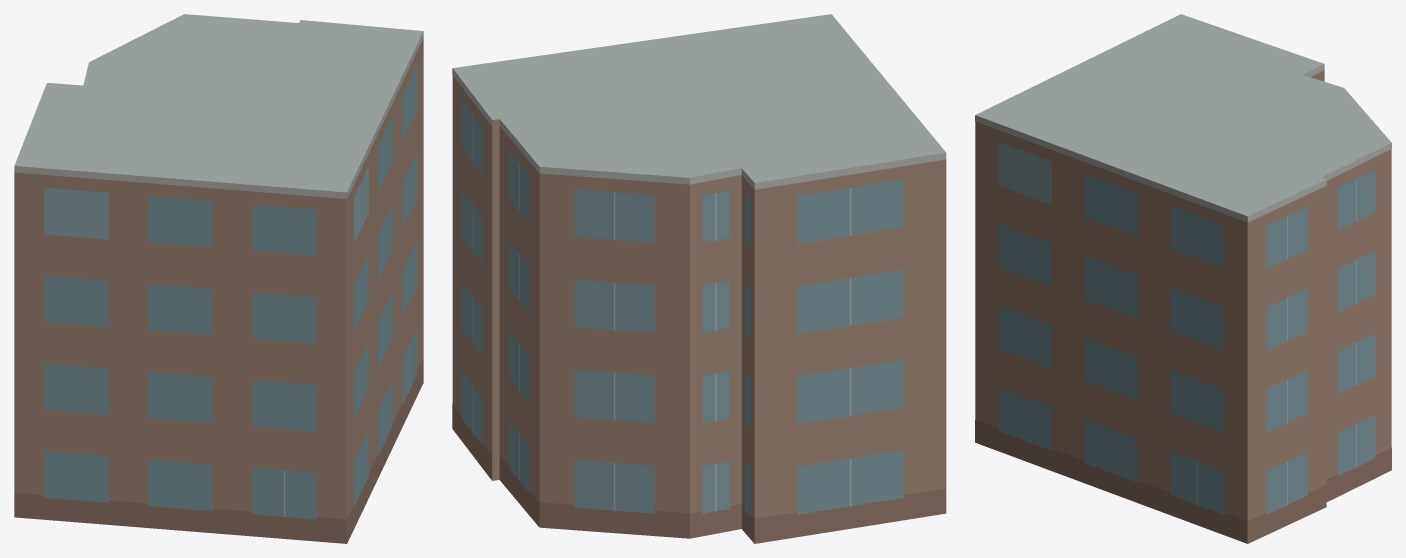
File: survey-upis-32744730.glb
The picture shows the model from 3 angles, left to right: view 1: azimuth 30°, elevation 25°; view 2: azimuth 150°, elevation 25°; view 3: azimuth 270°, elevation 25°; orthographic projection. The views are drawn at different scales.
Visible parts, largest first — view 1: survey-upis-32744730.tmp; view 2: survey-upis-32744730.tmp; view 3: survey-upis-32744730.tmp.
Boxes of the visible parts, left/top/right/bottom form: survey-upis-32744730.tmp: left=14, top=14, right=423, bottom=543; survey-upis-32744730.tmp: left=452, top=14, right=946, bottom=543; survey-upis-32744730.tmp: left=975, top=14, right=1391, bottom=543.
Size of the model in its own units: 17.24 by 13 by 15.
